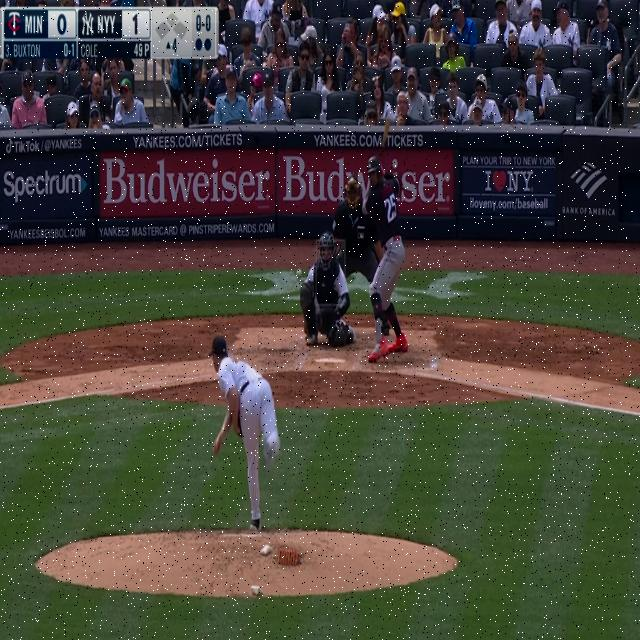baseball: (296, 267, 302, 280)
